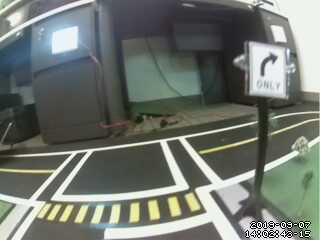Right_only_sign: (250, 42, 291, 106)
